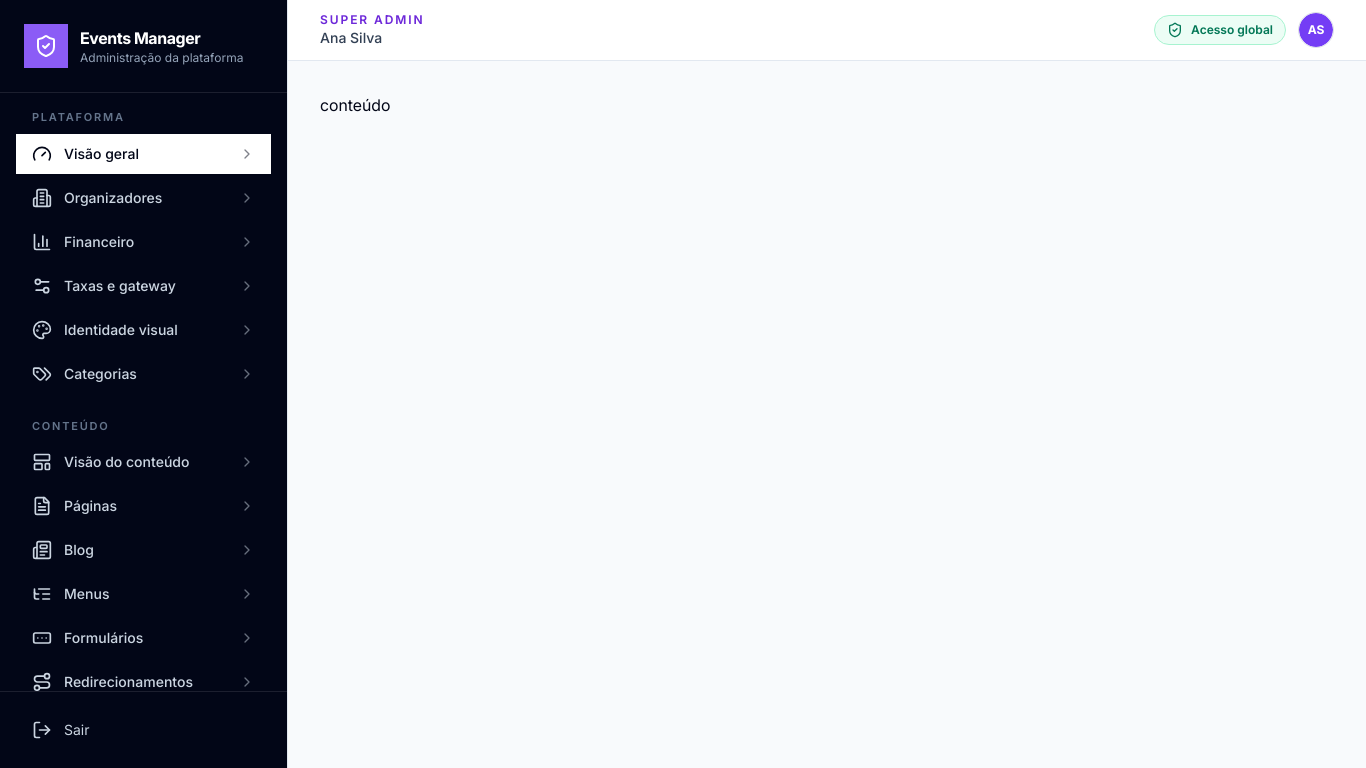
Scenario: SuperAdminShell › shows the shared account avatar and menu in its header
Step 1. Click the button with aria-label "conta de ana" → click(1316, 30), box [1298,12,1334,48]
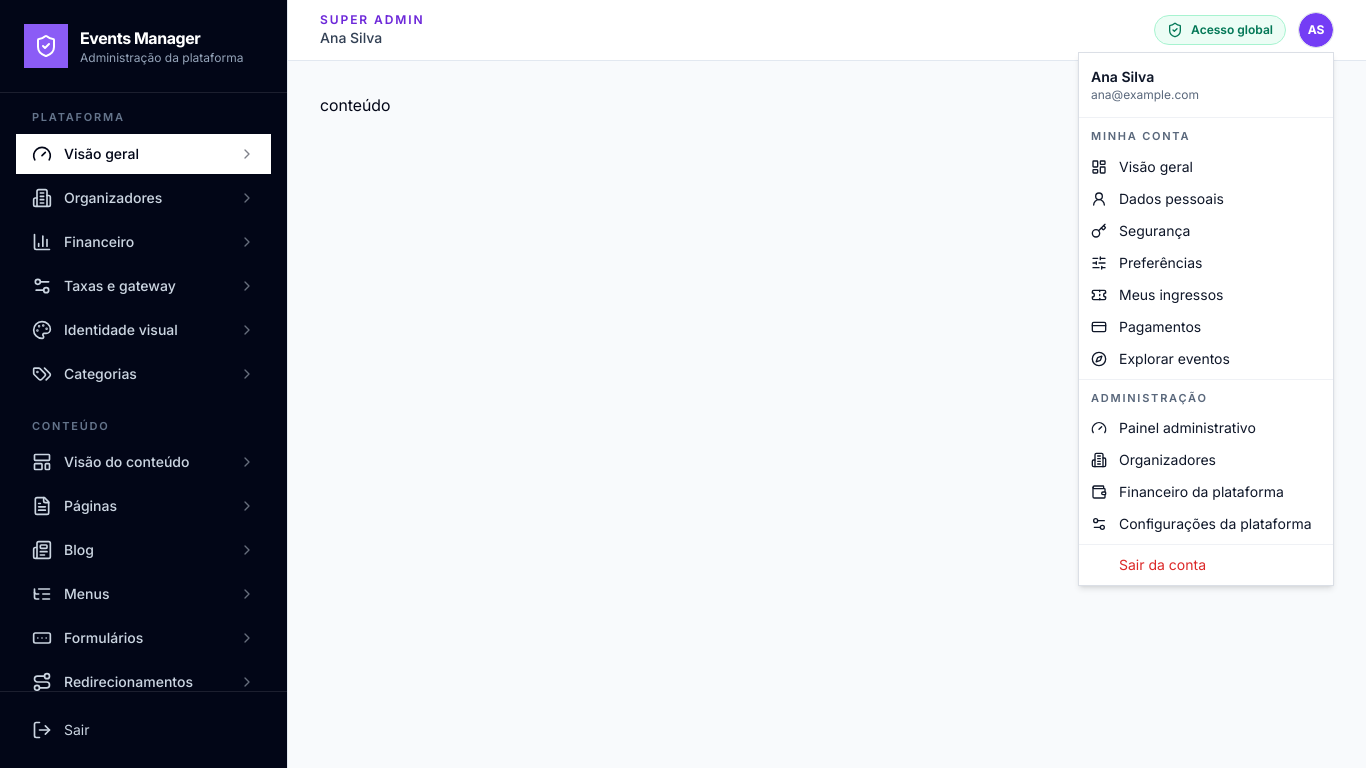
Check: the menu is shown, box [1078,52,1334,586]
Check: the text "Administração" is shown, box [1091,390,1208,404]
Check: the menu item "Sair da conta" is shown, box [1119,556,1206,573]
